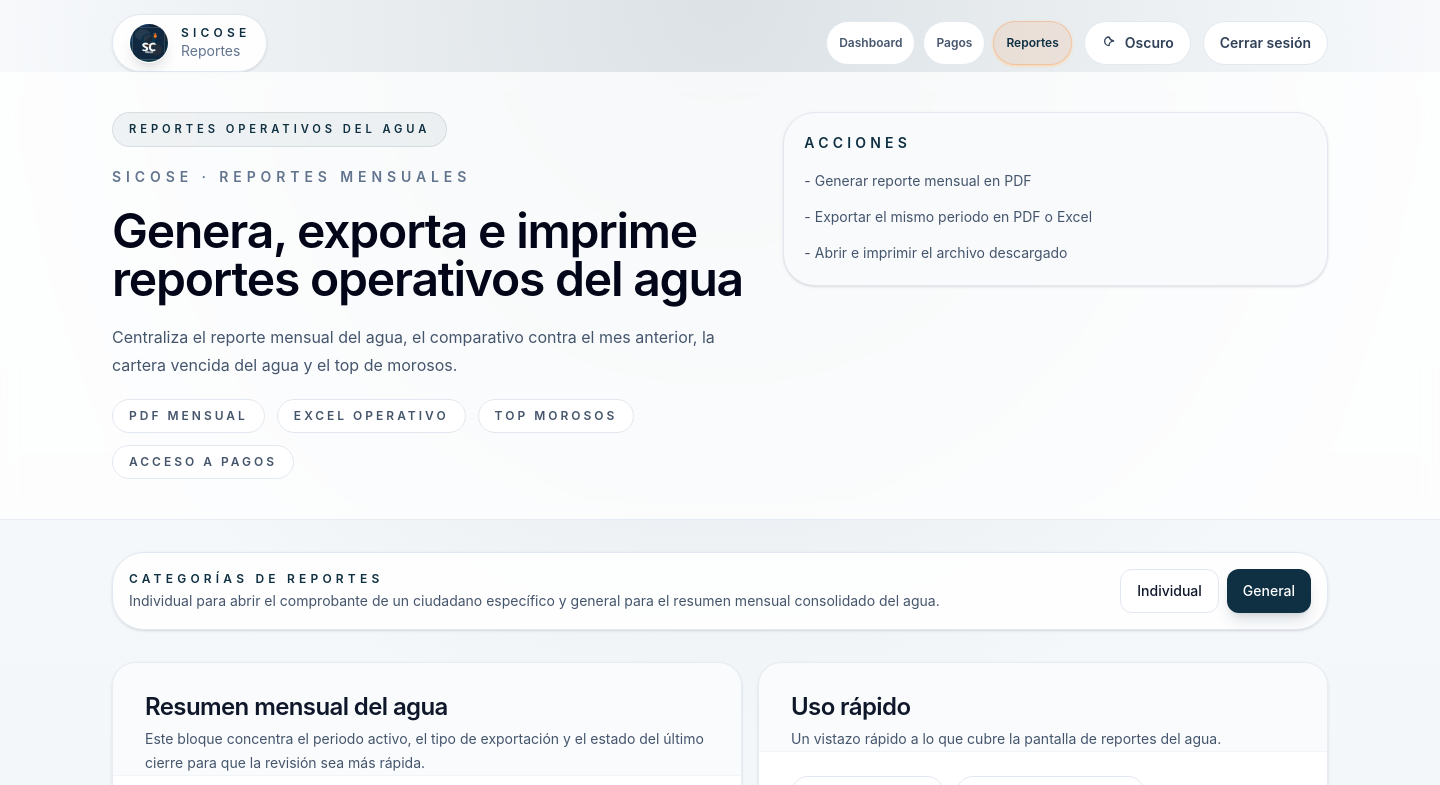
ReportsPage › separa los flujos individuales y generales de reportes
Expected: the button "General" is shown, [1227, 569, 1311, 613]
Click the button "Individual". click: (1170, 591)
box: [1120, 569, 1219, 613]
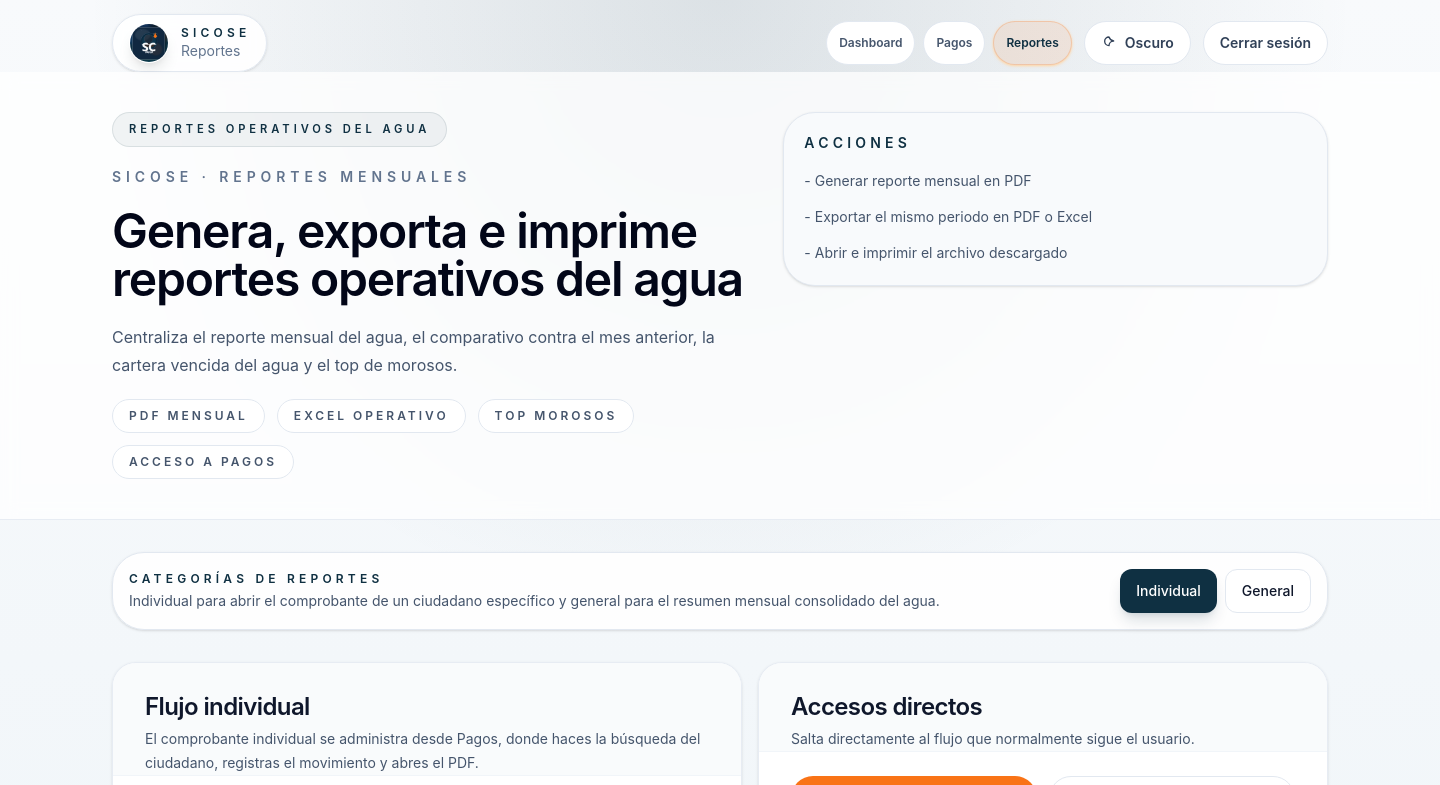
Expected: the heading "Flujo individual" is shown, [145, 692, 310, 721]
Expected: the number of links "Ir a pagos" is 2
Click the button "General". click: (1268, 591)
box: [1225, 569, 1311, 613]
(page scrolled)
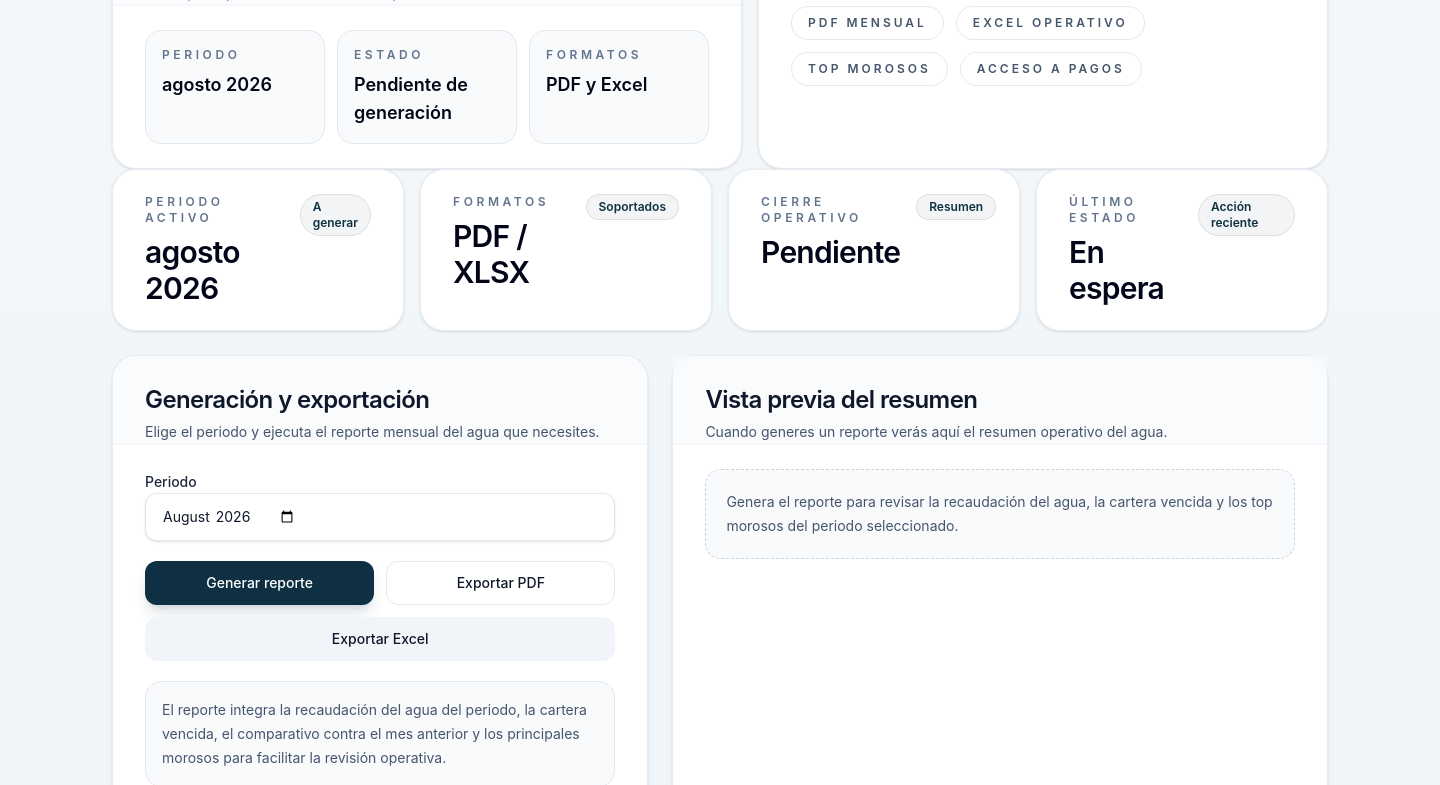
Expected: the heading "Generación y exportación" is shown, [145, 385, 429, 414]
